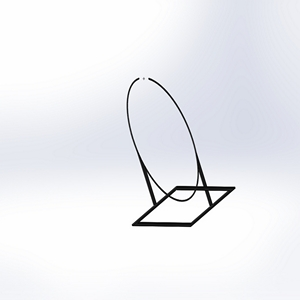circle: (124, 73, 237, 227)
